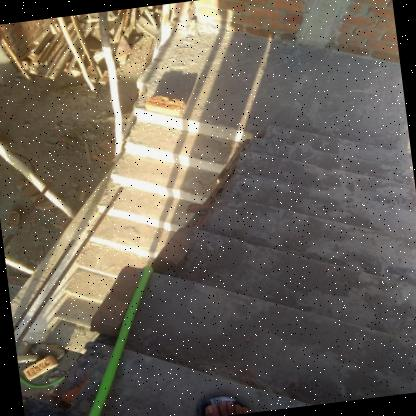stair: (43, 88, 416, 416)
